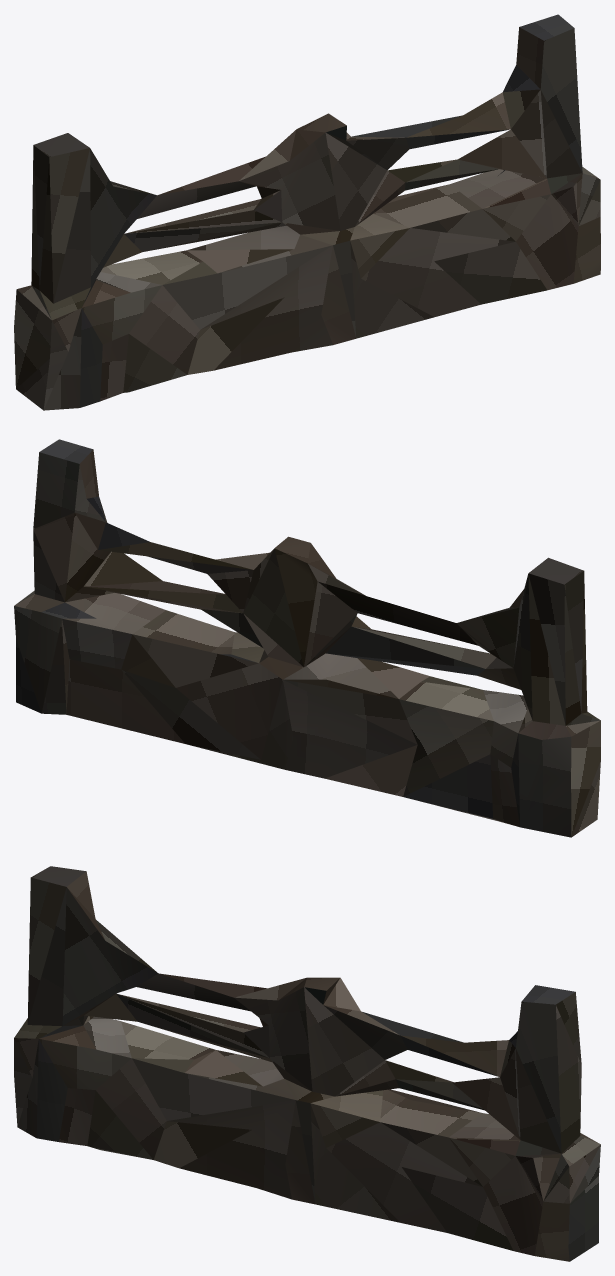
The model's file is railing-wall.collision.glb.
3 views of the same model, one above another, from view 1: azimuth 30°, elevation 25°; view 2: azimuth 150°, elevation 25°; view 3: azimuth 330°, elevation 25° (orthographic).
Visible parts, largest first — view 1: output_unwrapped; view 2: output_unwrapped; view 3: output_unwrapped.
Part boxes in pixels (left/top/right/bottom): output_unwrapped: left=14, top=14, right=600, bottom=410; output_unwrapped: left=14, top=439, right=600, bottom=837; output_unwrapped: left=14, top=866, right=600, bottom=1261.
Size of the model in its own units: 1.9 by 0.8227 by 0.2468.
Materials: 1 (1 with a texture image).
